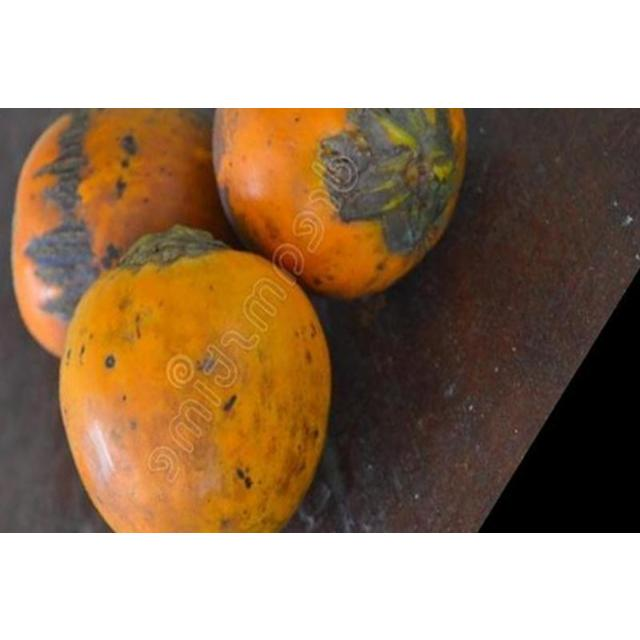good: (62, 230, 328, 528), (14, 110, 224, 354), (216, 110, 460, 300)
